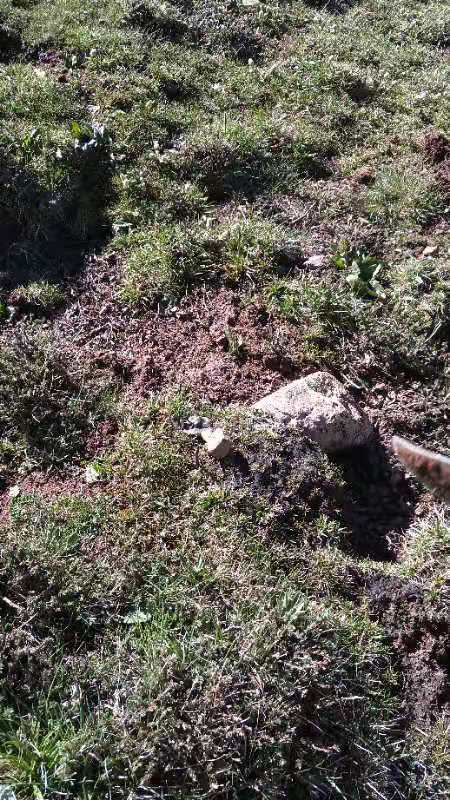cpf: (193, 446, 203, 469)
